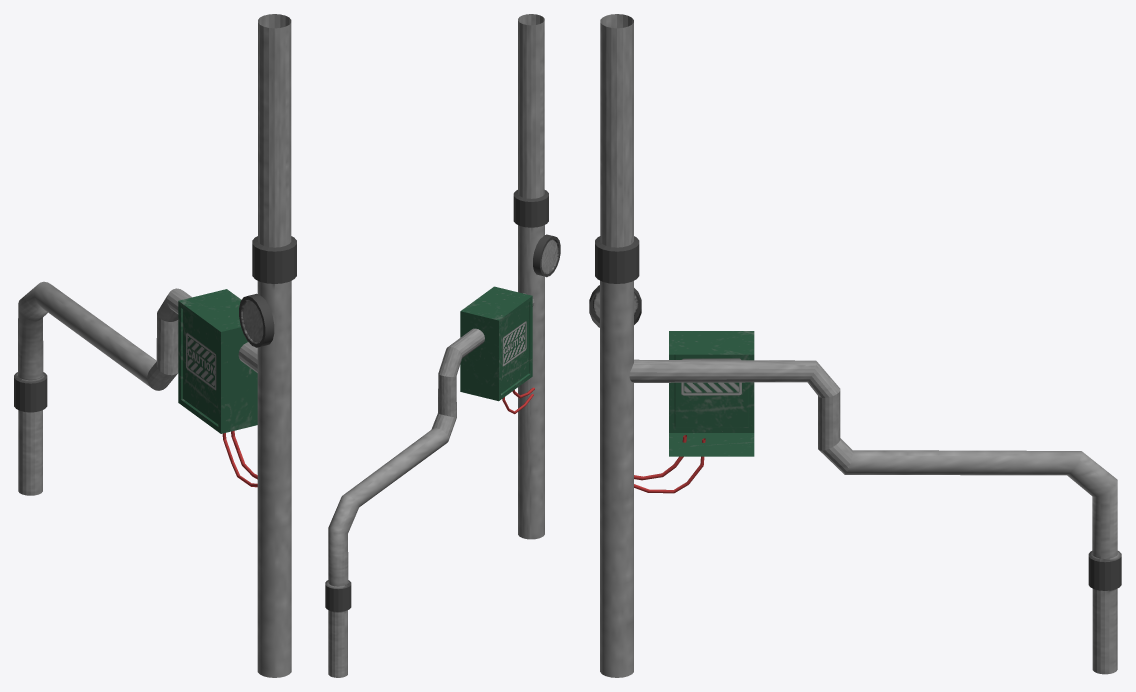
File: HallwayPart_Pipe1.fbx
3 views of the same model, side by side, from view 1: azimuth 30°, elevation 25°; view 2: azimuth 150°, elevation 25°; view 3: azimuth 270°, elevation 25° (orthographic). The views are drawn at different scales.
Parts seen in each view (by area): view 1: pipe_008; view 2: pipe_008; view 3: pipe_008.
Part boxes in pixels (<box>): pipe_008: <box>14,14,296,677</box>; pipe_008: <box>325,14,560,677</box>; pipe_008: <box>589,14,1121,677</box>.
Size of the model in its own units: 1.89 by 24.18 by 17.96.
